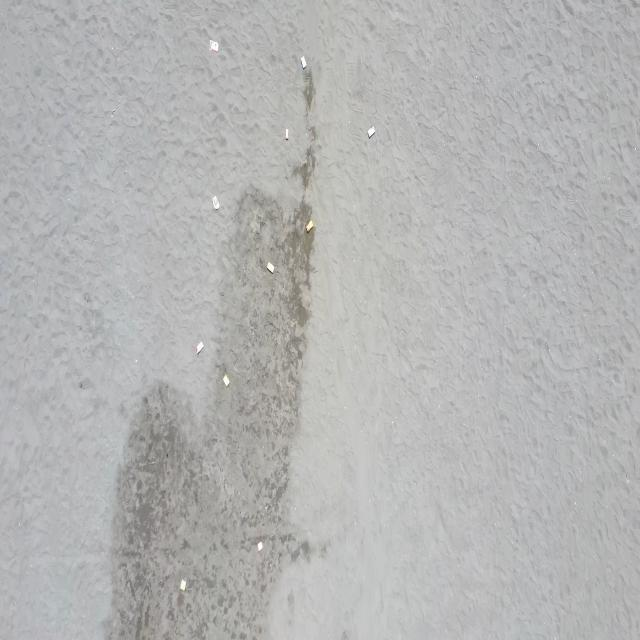retort-pouch: (208, 38, 219, 54), (212, 194, 220, 213), (305, 218, 314, 234), (222, 373, 230, 390), (196, 340, 204, 357), (267, 260, 275, 276), (367, 125, 376, 139), (300, 54, 307, 72), (180, 578, 187, 592), (257, 539, 264, 553), (284, 126, 290, 142)
